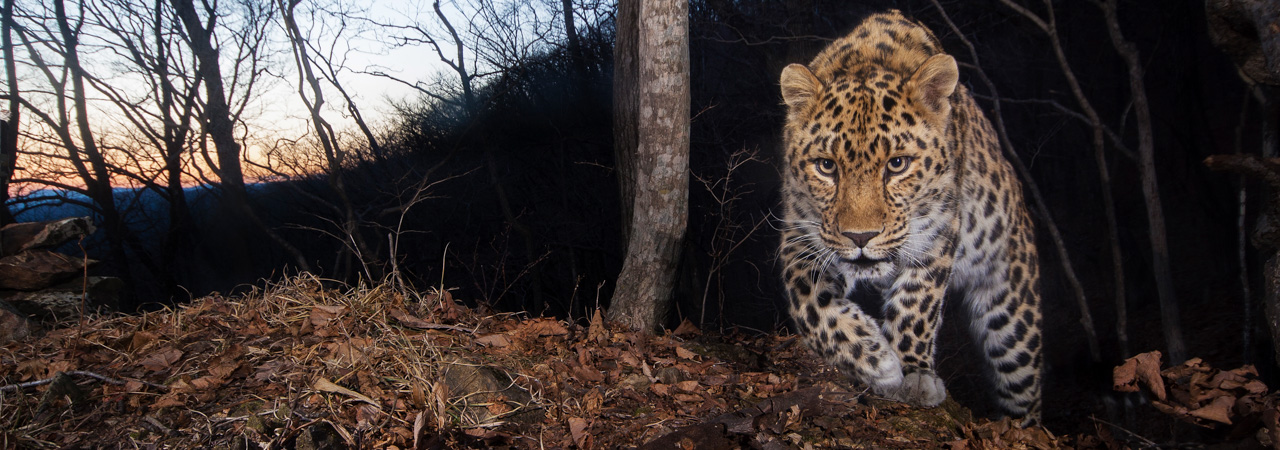amur_leopard: (753, 4, 1095, 424)
